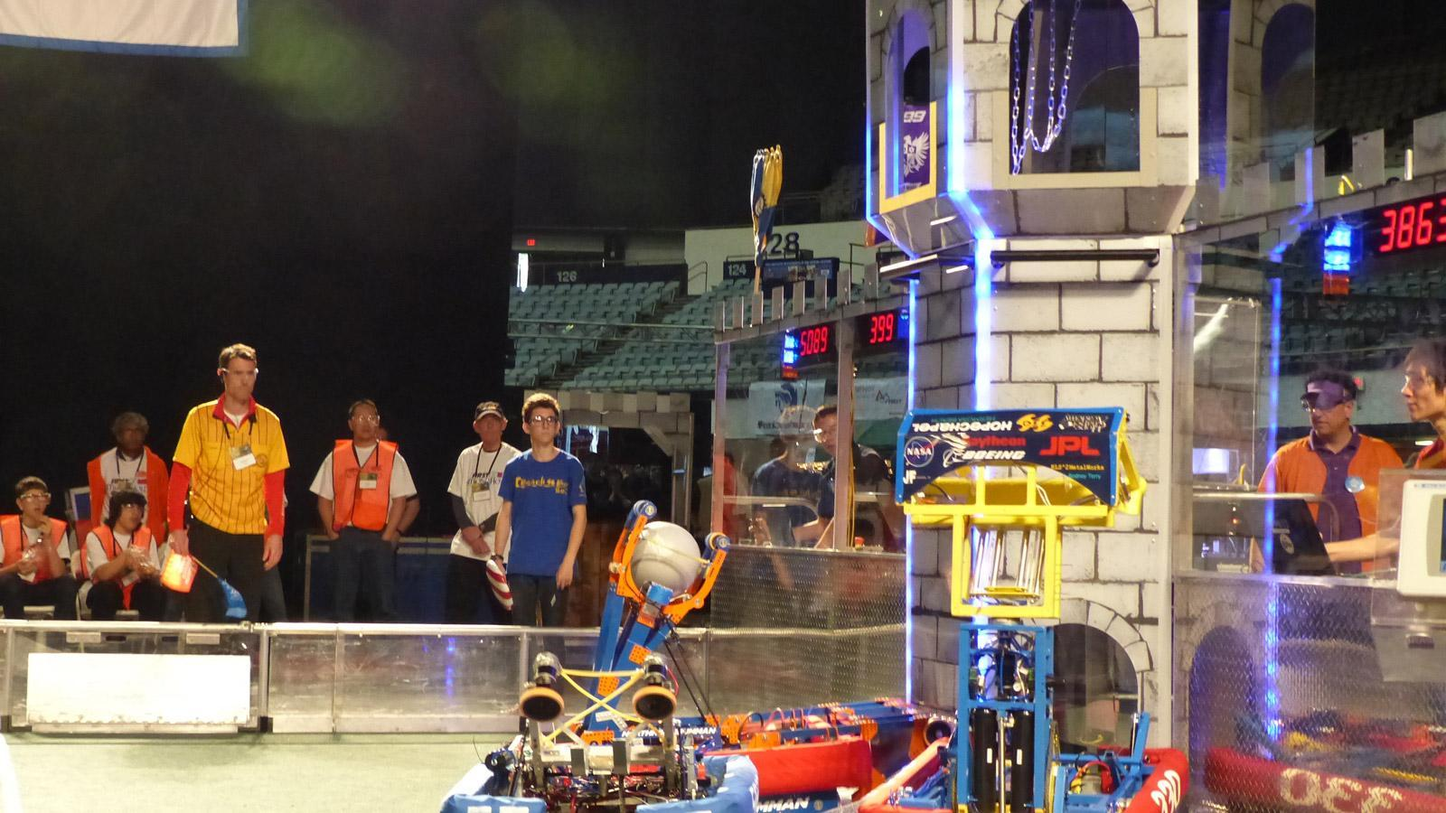robot: (824, 401, 1195, 813), (437, 499, 769, 813)
